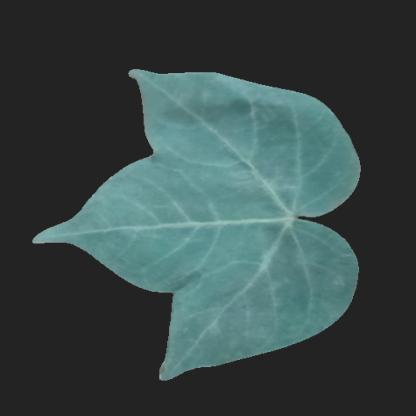healthy: (150, 123, 300, 288), (179, 293, 277, 354), (151, 78, 239, 126), (298, 121, 350, 200), (95, 191, 149, 262), (300, 248, 345, 320)
